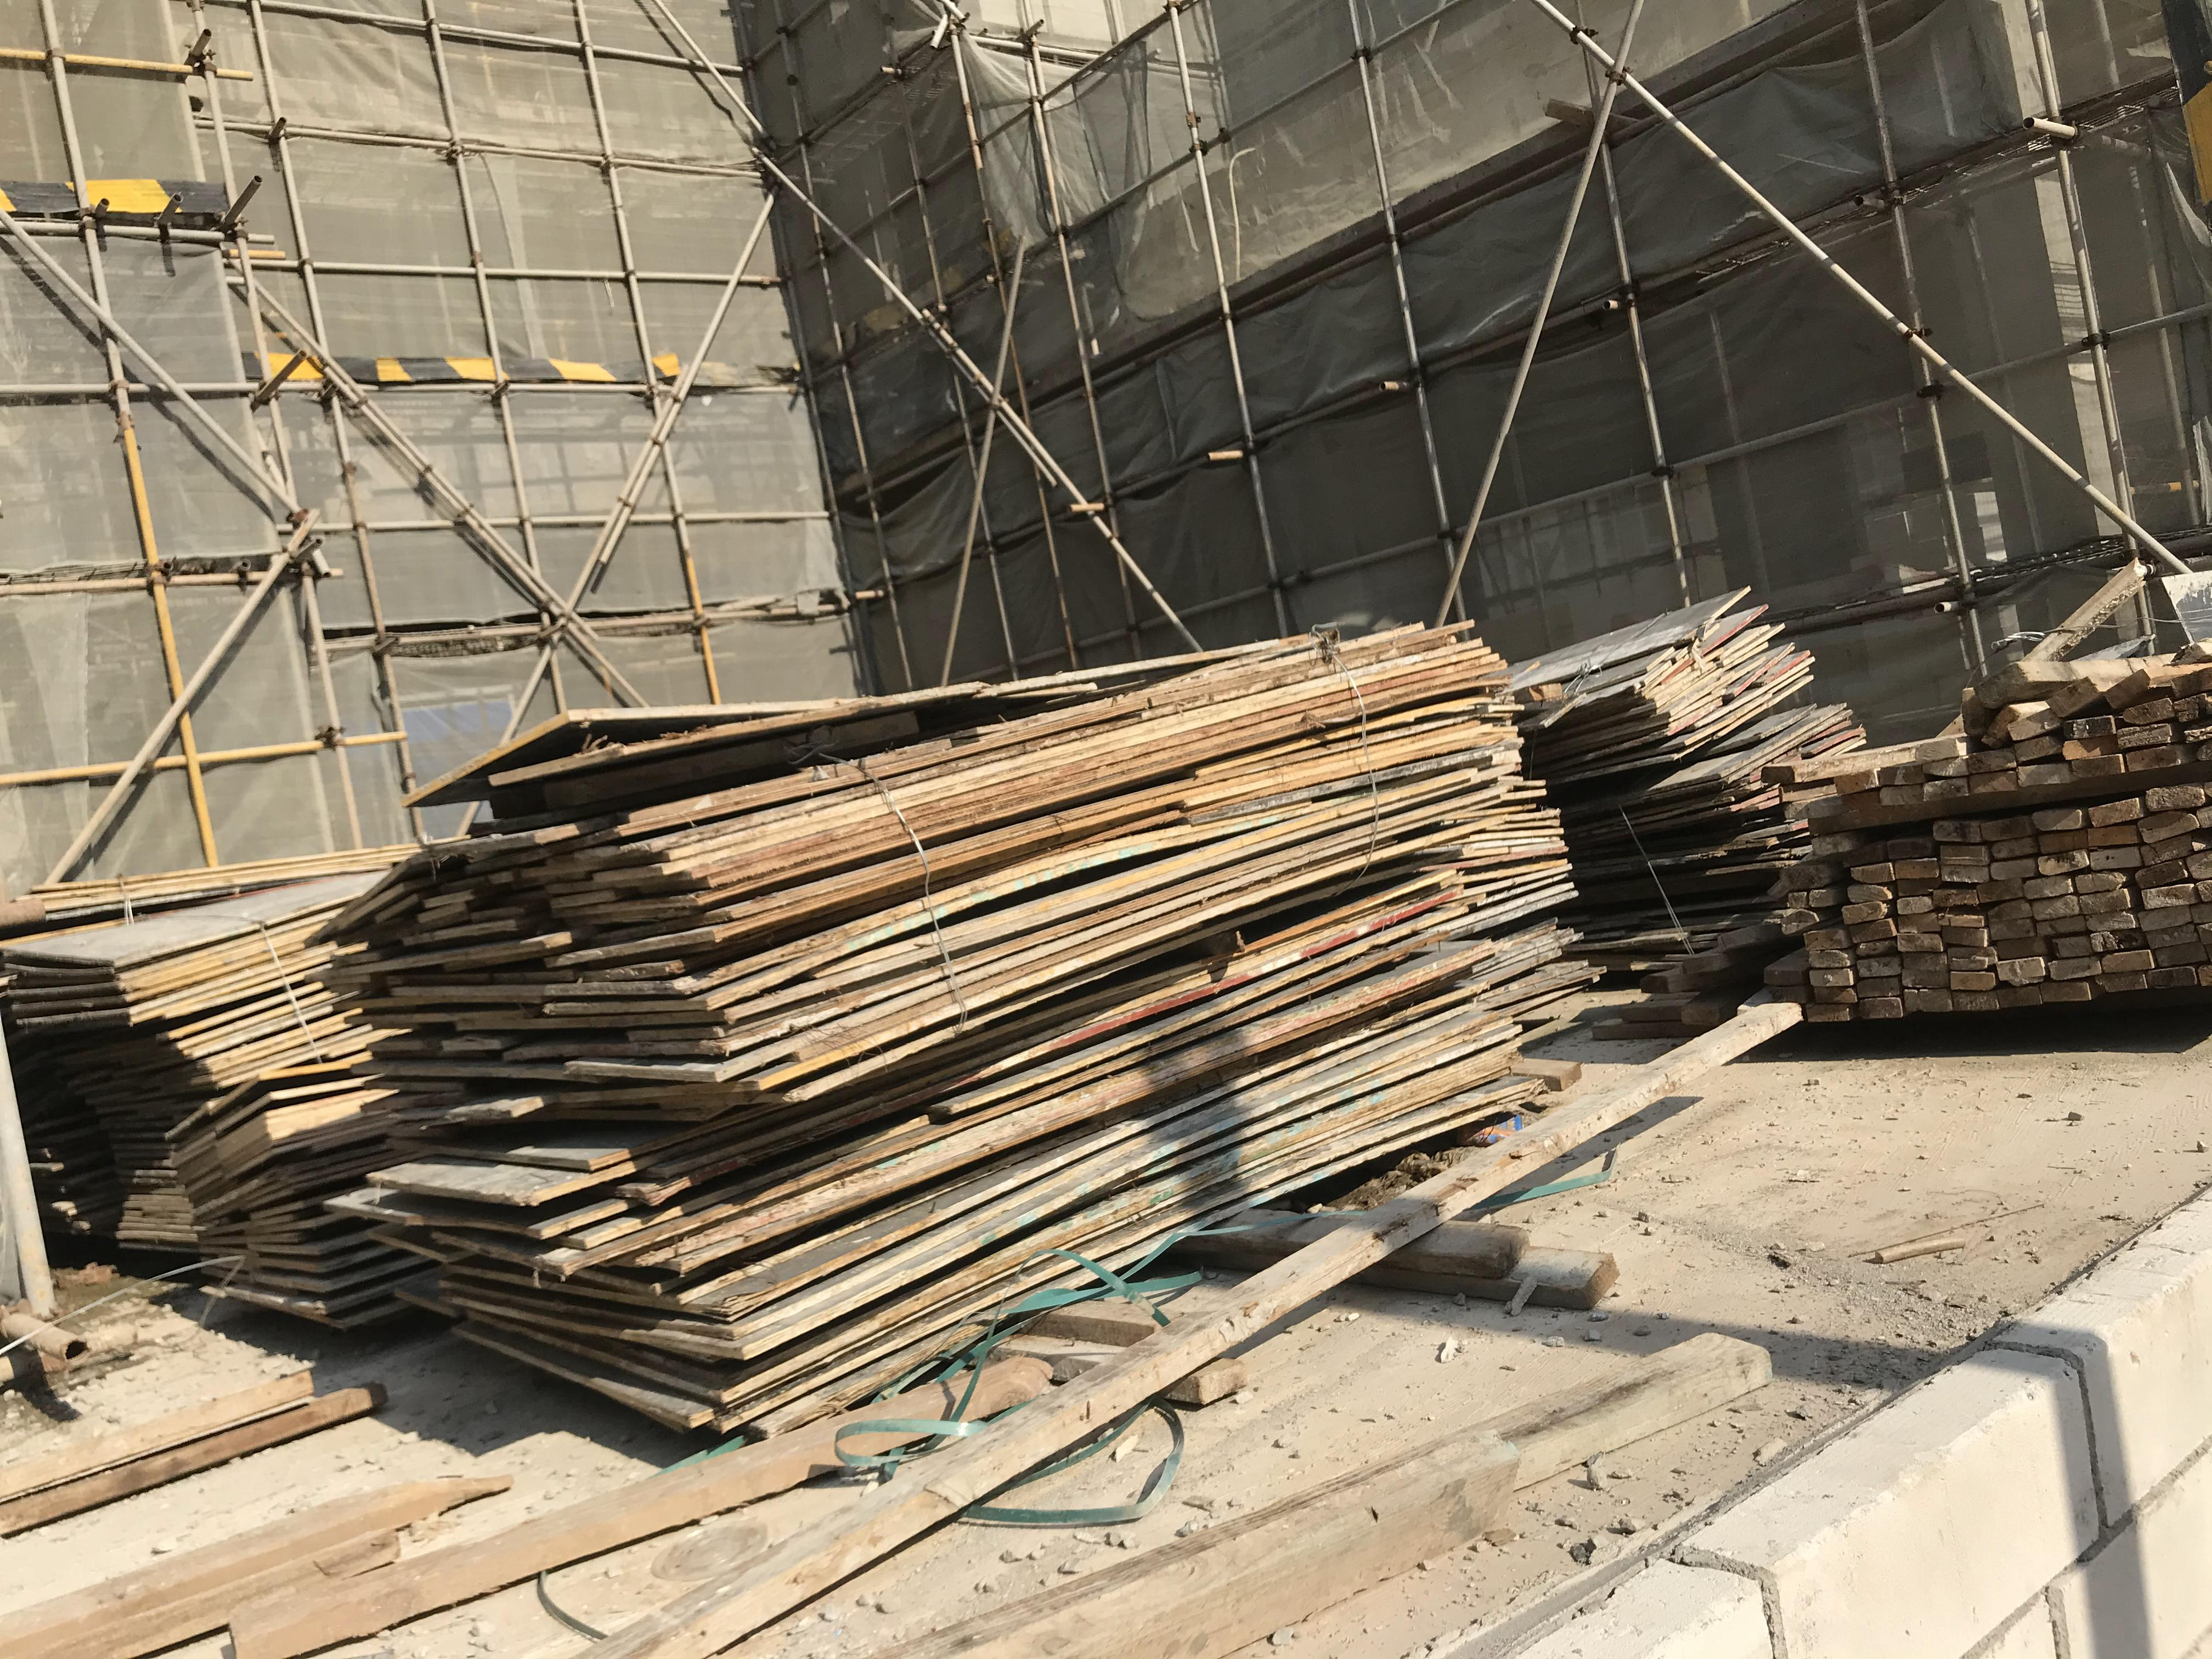board: (312, 587, 1573, 1446), (1496, 538, 1872, 1019), (10, 836, 463, 1070), (125, 1047, 444, 1335)
wood: (1811, 579, 2212, 1061)
